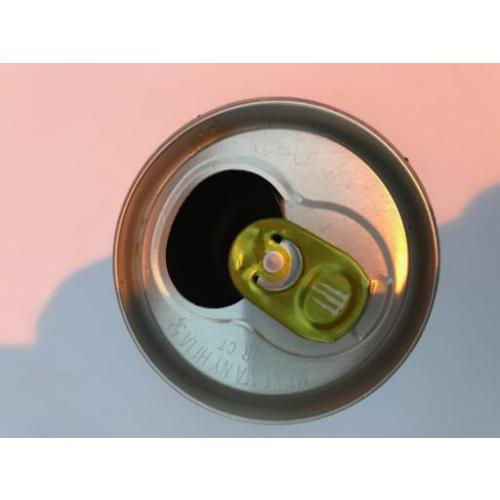metal: (109, 96, 441, 425)
